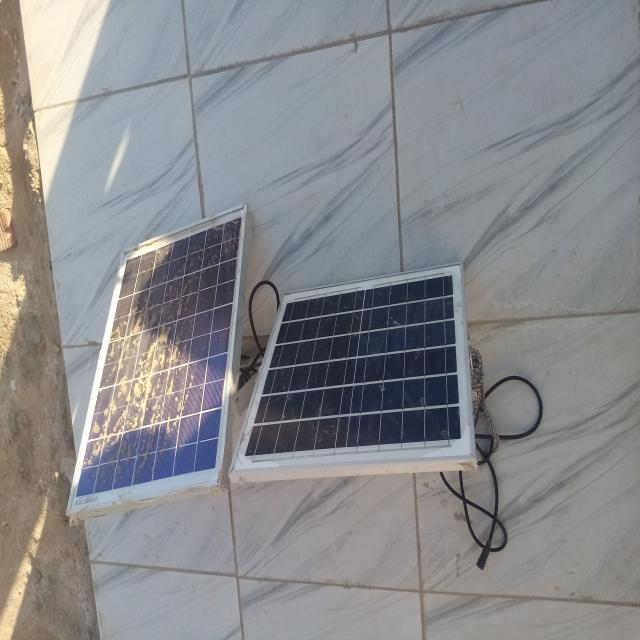faulty: (67, 204, 247, 514), (229, 263, 475, 472)
